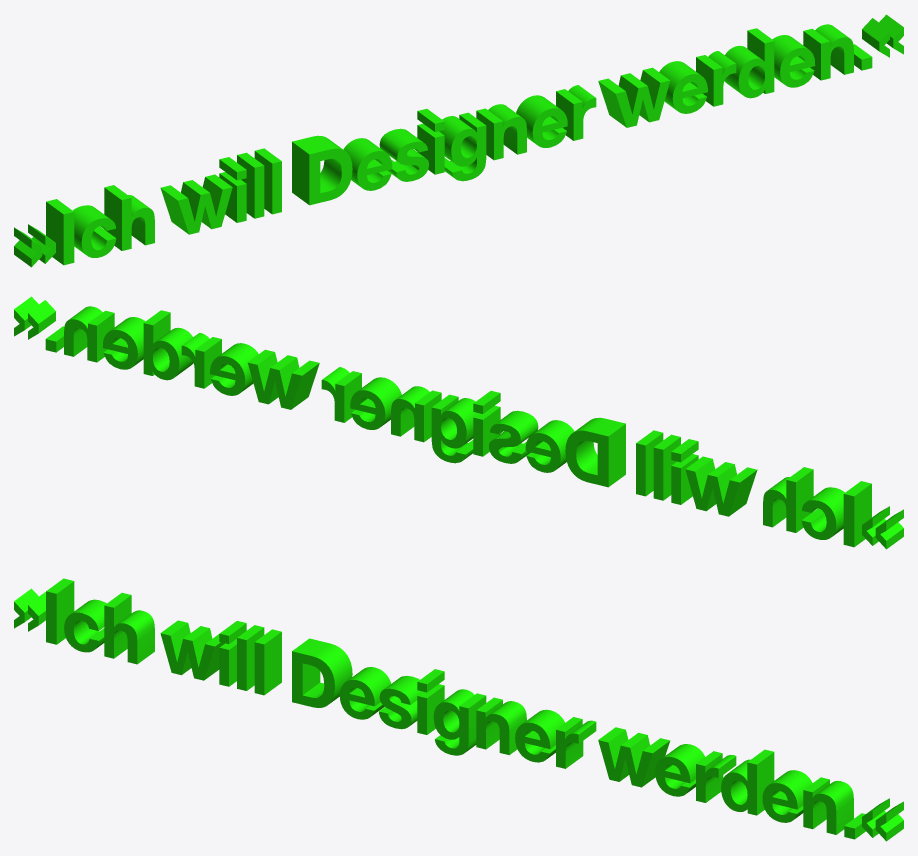
File: Schrift.gltf
The picture shows the model from 3 angles, top to bottom: view 1: azimuth 30°, elevation 25°; view 2: azimuth 150°, elevation 25°; view 3: azimuth 330°, elevation 25°; orthographic projection.
Visible parts, largest first — view 1: »Ich will Design; view 2: »Ich will Design; view 3: »Ich will Design.
Part boxes in pixels (box(x1,y1,x2,y2)): »Ich will Design: box(14, 14, 903, 267); »Ich will Design: box(14, 296, 903, 549); »Ich will Design: box(14, 578, 903, 841).
Size of the model in its own units: 3.33 by 0.2368 by 0.1163.
